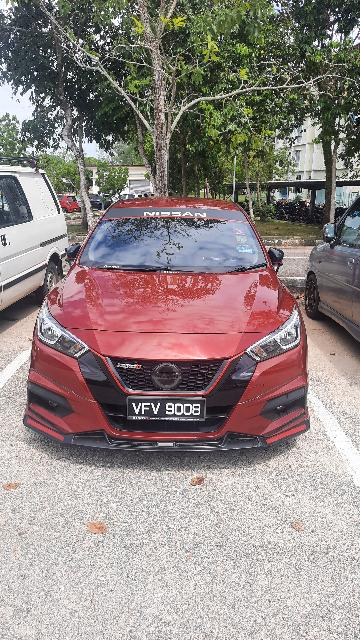License_Plate: (127, 390, 210, 426)
car: (30, 190, 313, 459)
